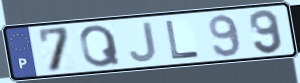7: (37, 25, 73, 74)
9: (248, 8, 286, 56), (206, 13, 243, 58)
J: (127, 20, 159, 64)
L: (163, 19, 202, 60)
Q: (78, 23, 123, 69)
